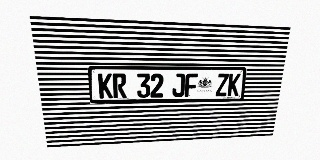2: (150, 73, 163, 98)
3: (137, 73, 150, 98)
F: (185, 73, 198, 97)
J: (172, 73, 185, 97)
K: (98, 73, 113, 98), (227, 74, 241, 96)
R: (112, 73, 127, 98)
Z: (215, 74, 229, 96)
